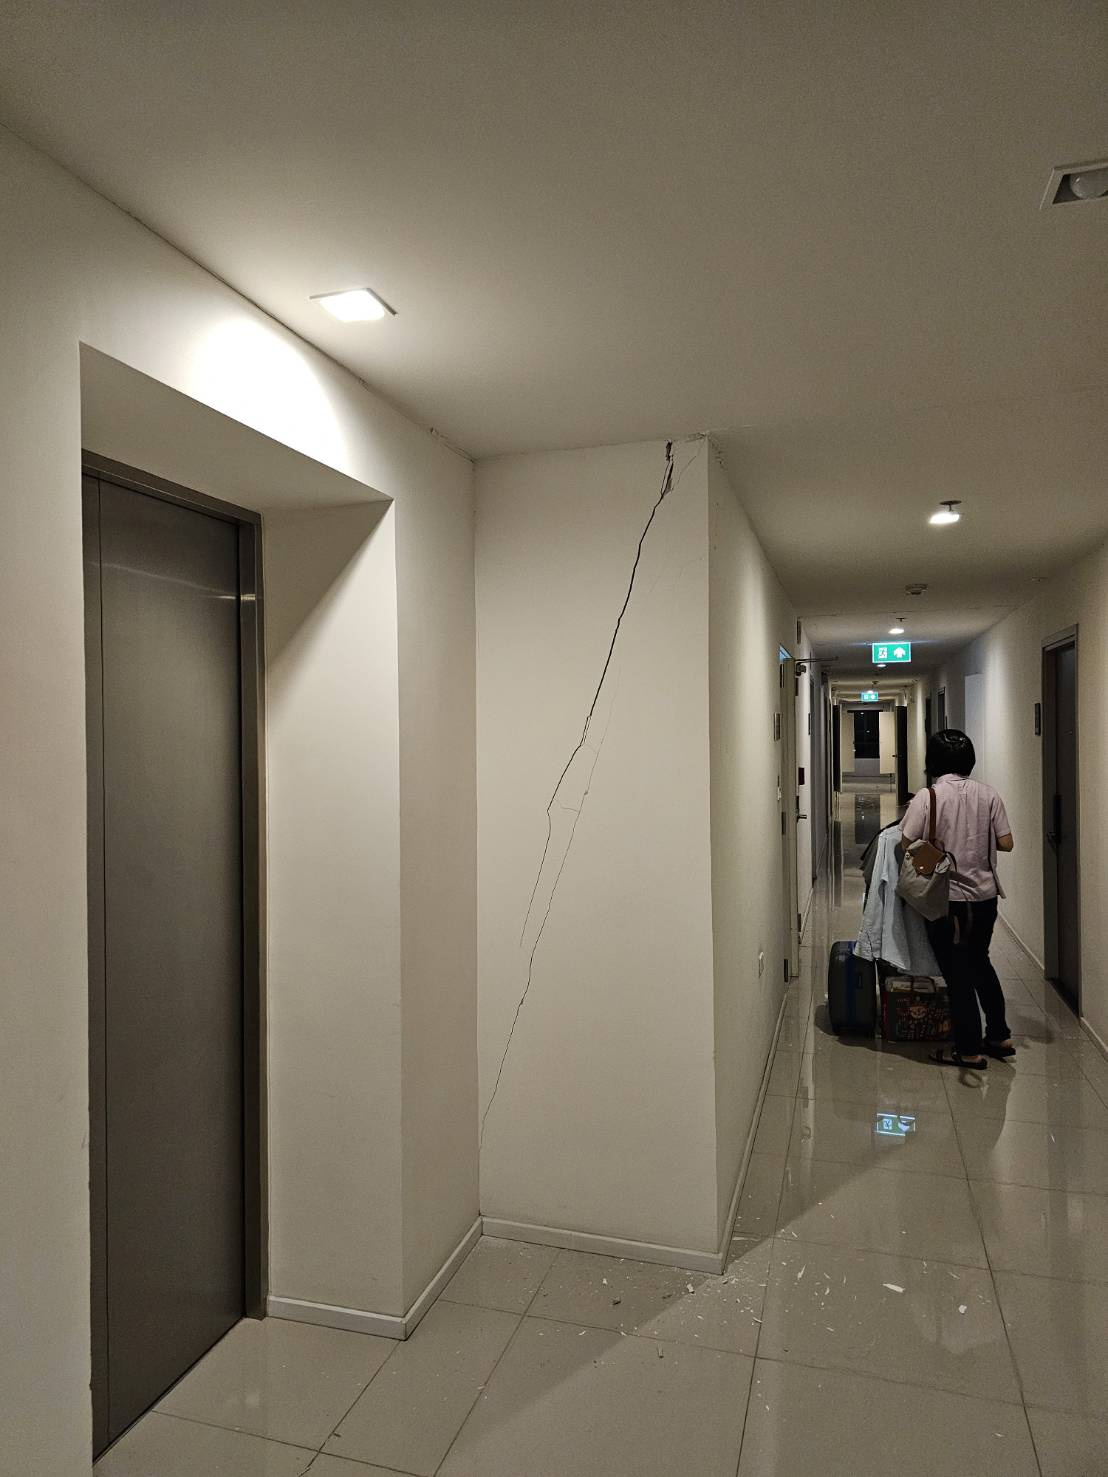Medium: (533, 448, 702, 838)
